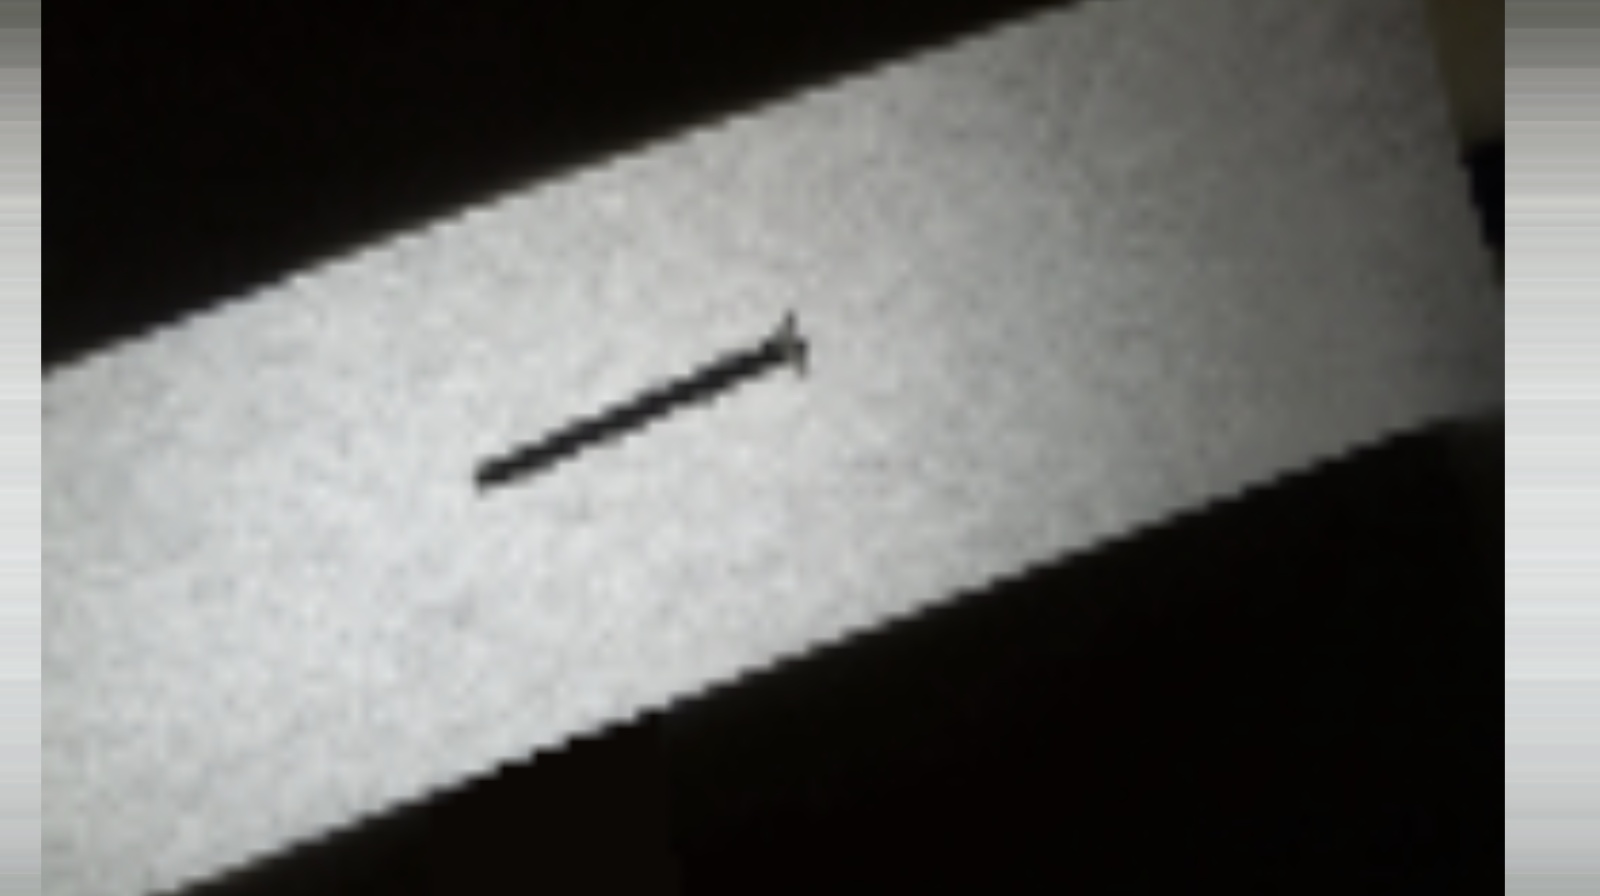S002: (459, 308, 815, 491)
